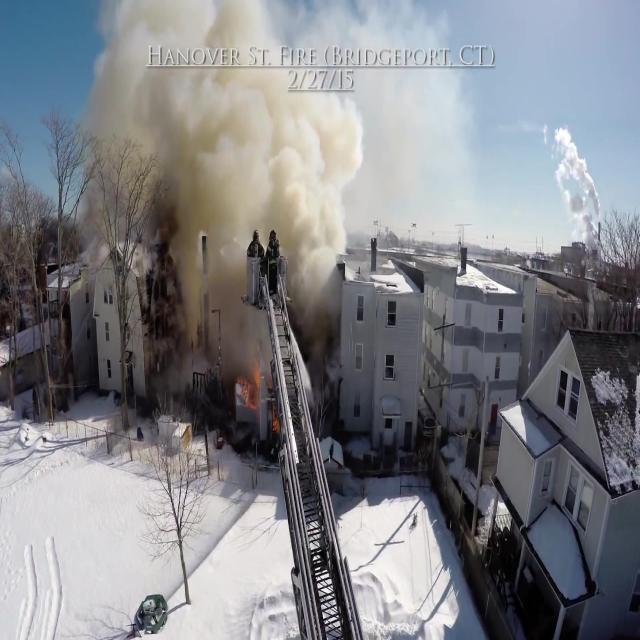Fire: (239, 362, 282, 442)
Smoke: (83, 2, 364, 353)
